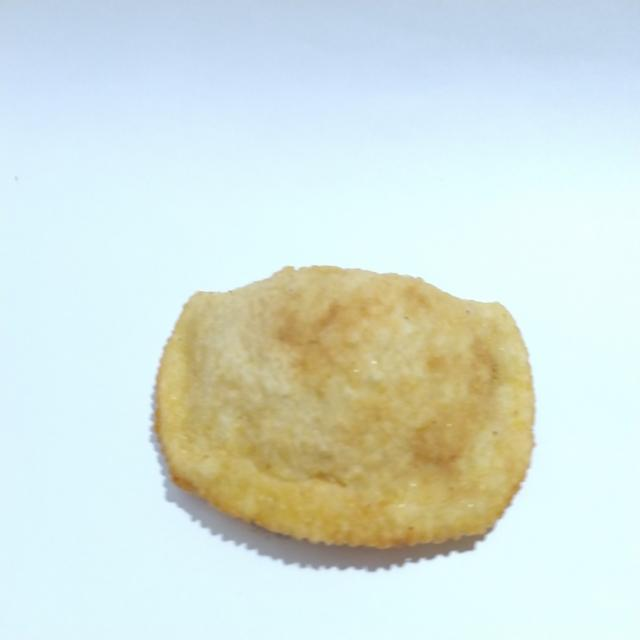Pastel_Mandio: (148, 254, 546, 574)
